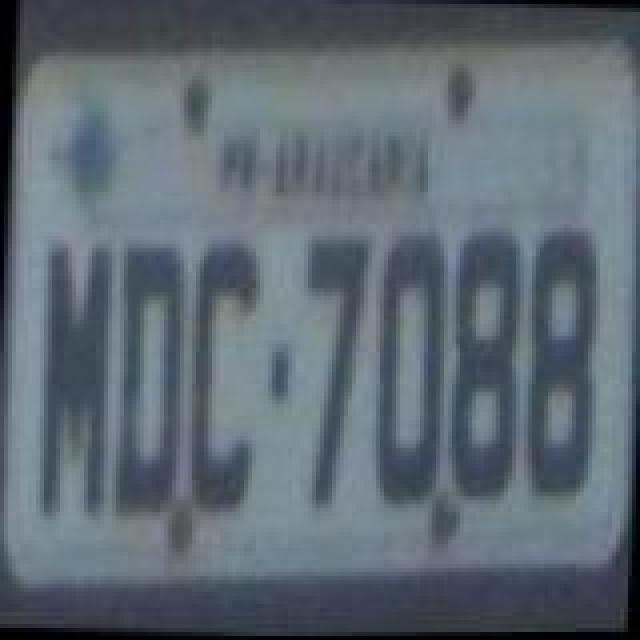7: (290, 220, 370, 508)
8: (514, 218, 602, 498), (442, 226, 530, 502)
C: (180, 234, 264, 514)
D: (108, 232, 192, 520)
M: (30, 230, 118, 522)
O: (360, 222, 452, 514)
